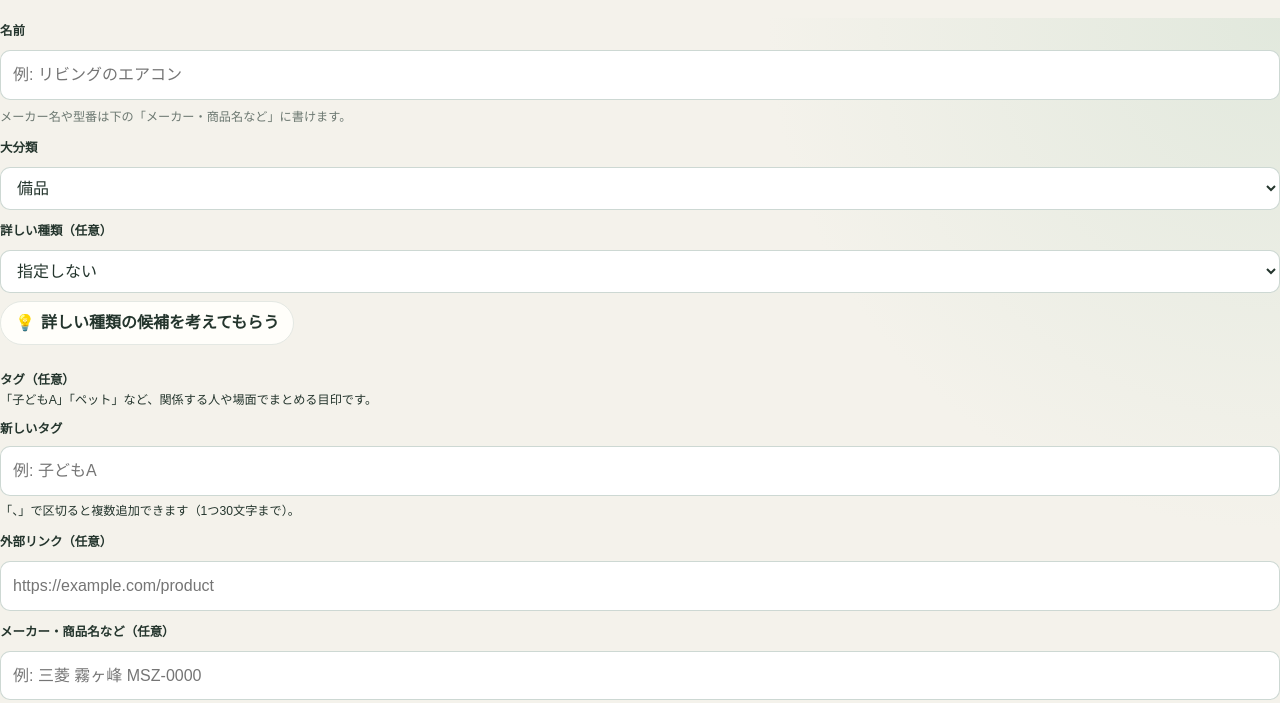
詳しい種類のAI提案(Issue #332) › プリセットと同じ表記の候補は、AI専用の値を作らずプリセットを選ぶ
The image size is (1280, 703).
Click the button "💡 詳しい種類の候補を考えてもらう". click: (147,323)
box: [0,301,294,345]
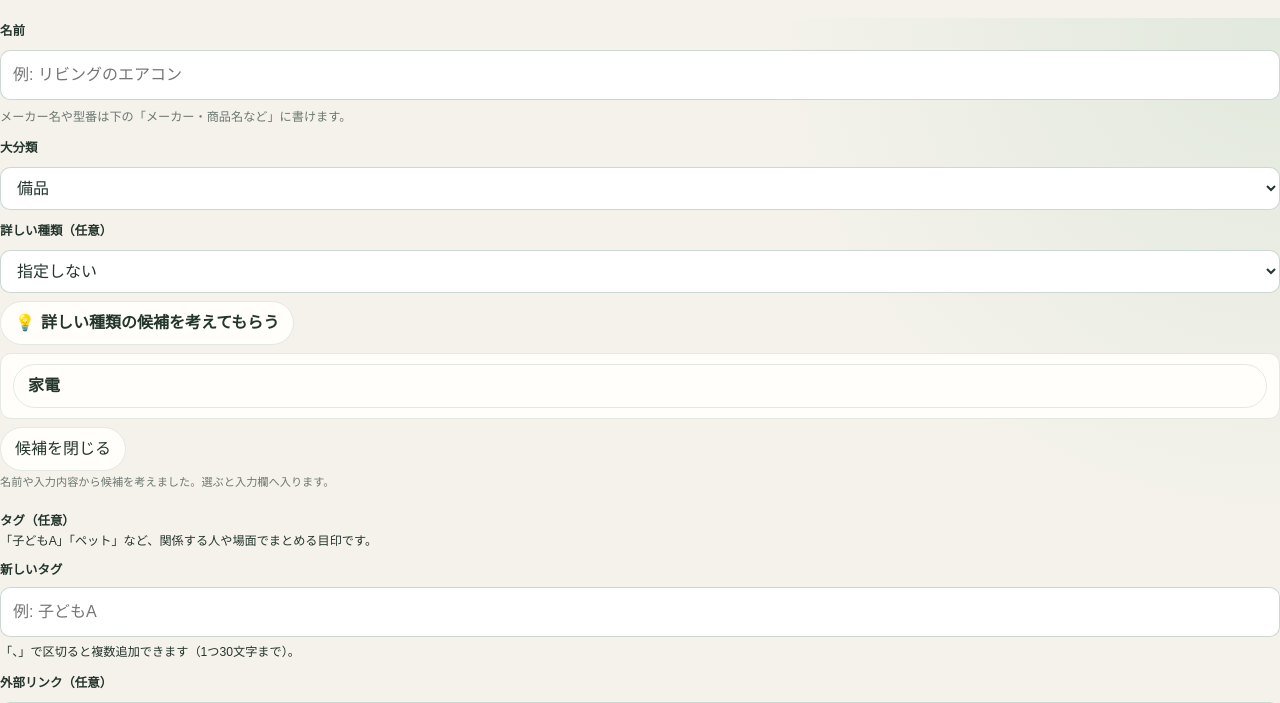
Now the element named "考えた詳しい種類の候補から選ぶ" is shown, box [0,353,1279,419]
Click the button "家電". click: (44,386)
box: [13,364,1267,408]
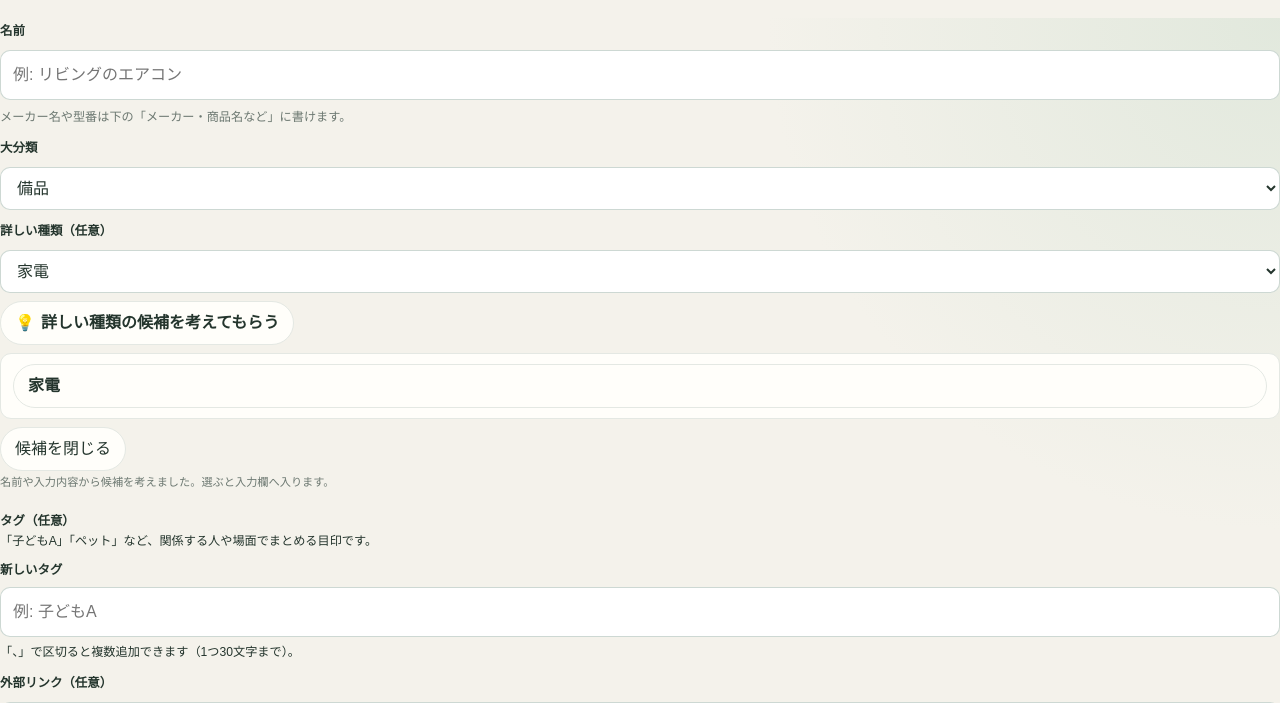
Now the dropdown labelled "詳しい種類（任意）" shows "家電", box [0,250,1279,293]
